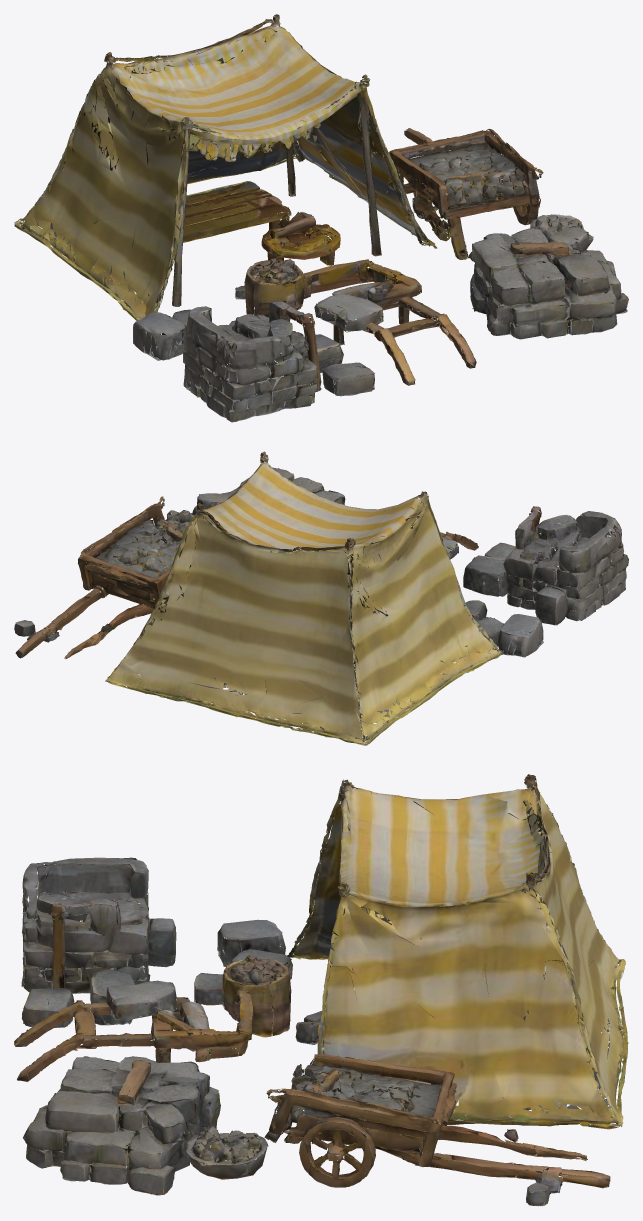
Rendered from o49_kervan_konak_yeri_ortu_yuk.glb.
3 renders of one model, top to bottom at view 1: azimuth 30°, elevation 25°; view 2: azimuth 150°, elevation 25°; view 3: azimuth 270°, elevation 25°, orthographic. The views are drawn at different scales.
Parts seen in each view (by area): view 1: Mesh_0; view 2: Mesh_0; view 3: Mesh_0.
Boxes of the visible parts, x1=… form: Mesh_0: x1=14, y1=14, x2=628, y2=422; Mesh_0: x1=14, y1=451, x2=628, y2=745; Mesh_0: x1=14, y1=774, x2=628, y2=1206.
Size of the model in its own units: 1.88 by 0.749 by 1.86.
1 material, 1 textured.
